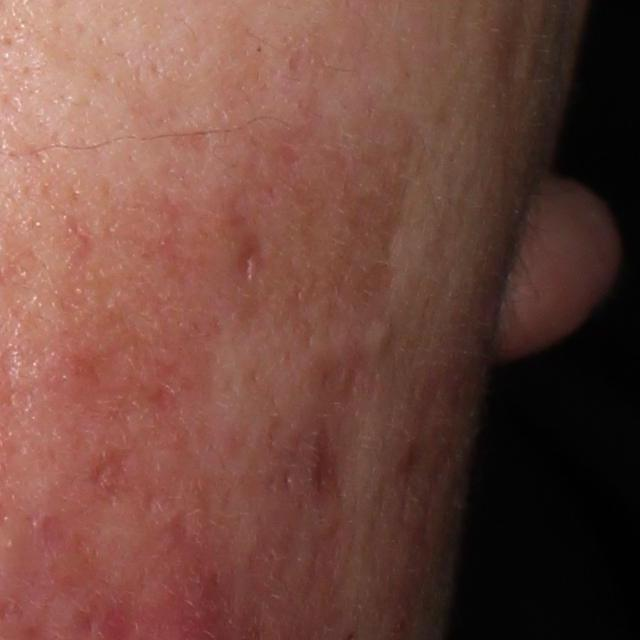atrophic_scar: (82, 443, 129, 495), (311, 425, 338, 502), (235, 235, 259, 286)
comedo: (367, 319, 396, 353)
